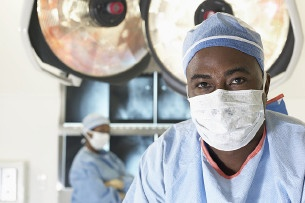Mask: (185, 69, 261, 144)
